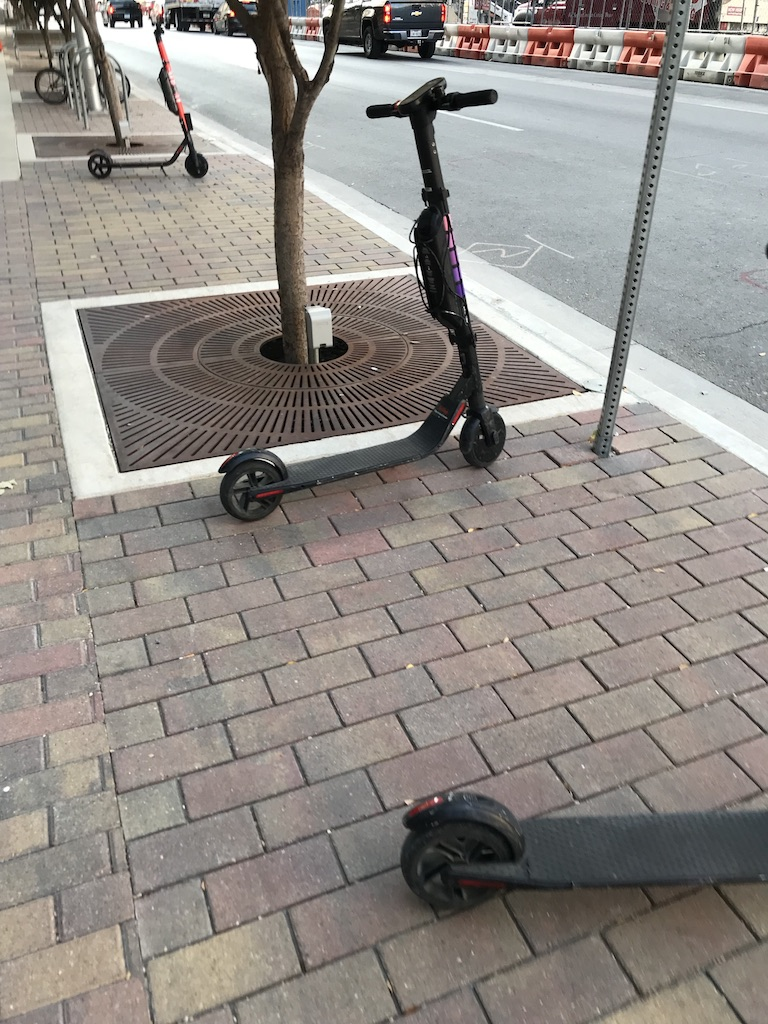scooter: (220, 77, 508, 527), (401, 790, 767, 910), (88, 23, 211, 180)
